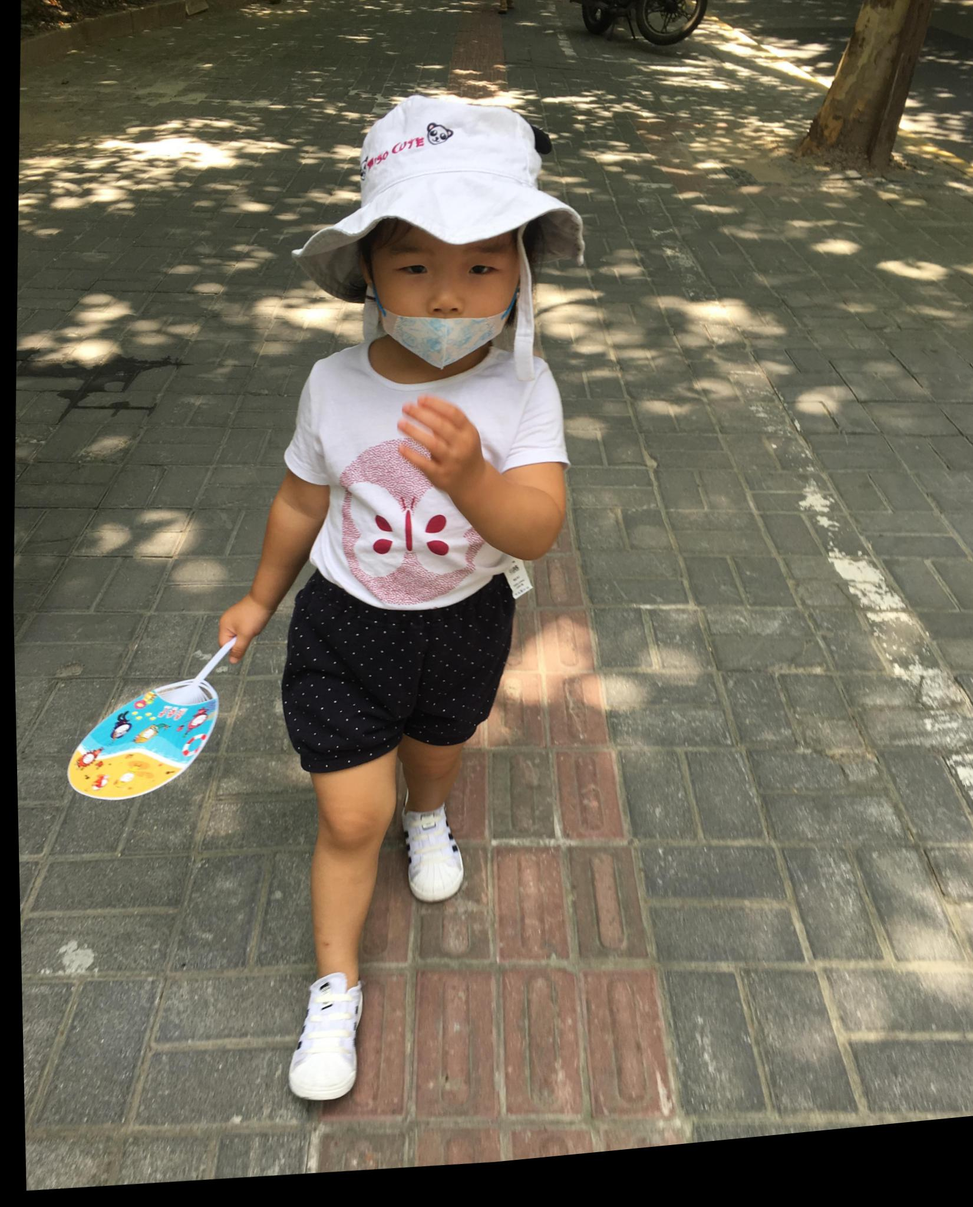WRONG: (371, 232, 517, 386)
